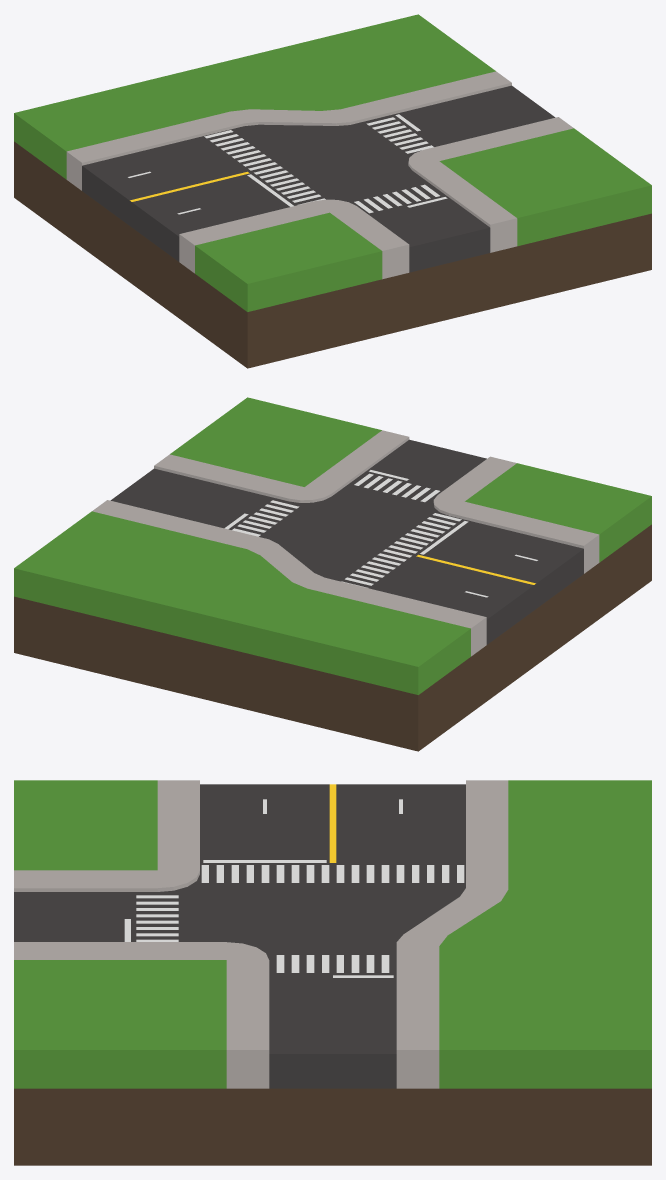
Rendered from tile-road-to-mainroad-intersection-t.glb.
The picture shows the model from 3 angles, top to bottom: view 1: azimuth 30°, elevation 25°; view 2: azimuth 150°, elevation 25°; view 3: azimuth 270°, elevation 25°; orthographic projection. The views are drawn at different scales.
Visible parts, largest first — view 1: tile-road-to-mainroad-intersection-t; view 2: tile-road-to-mainroad-intersection-t; view 3: tile-road-to-mainroad-intersection-t.
Part boxes in pixels (x1,y1,x2,y2): tile-road-to-mainroad-intersection-t: (14, 14, 651, 368); tile-road-to-mainroad-intersection-t: (14, 397, 651, 751); tile-road-to-mainroad-intersection-t: (14, 780, 651, 1165).
Bounding box in the file's own units: 30 × 6 × 30.
1 material, 1 textured.
